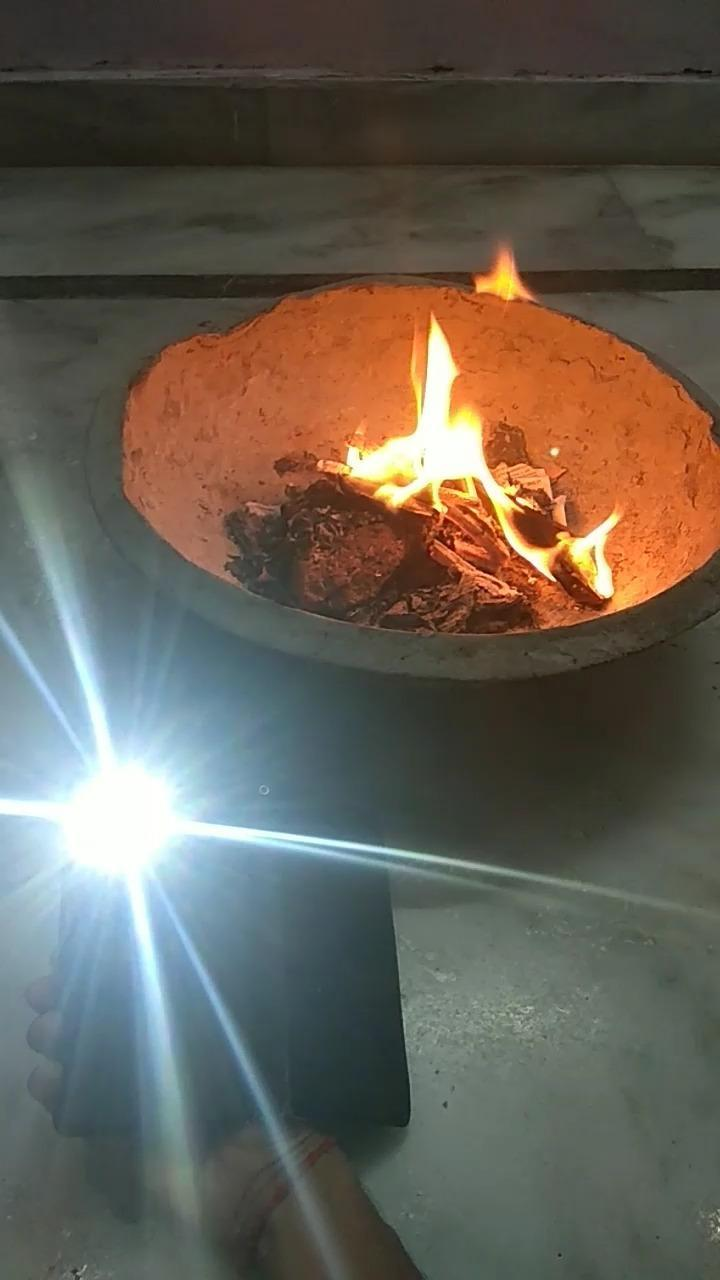fire: (323, 308, 631, 605), (453, 238, 548, 303)
